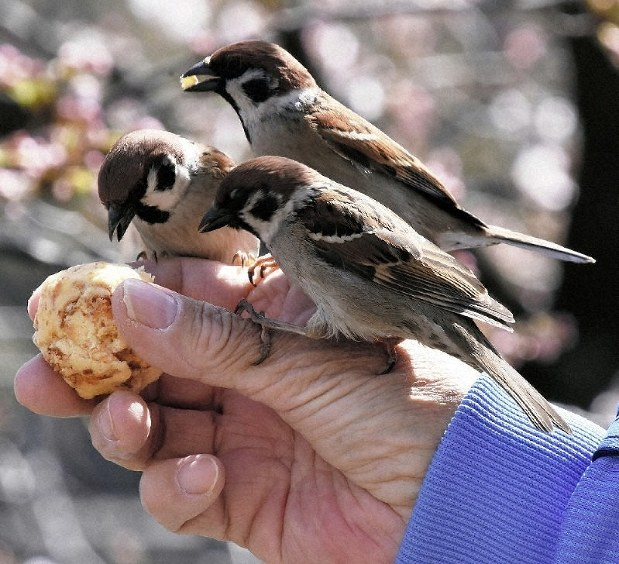bird: (182, 32, 604, 275), (195, 142, 532, 389), (85, 105, 271, 279)
